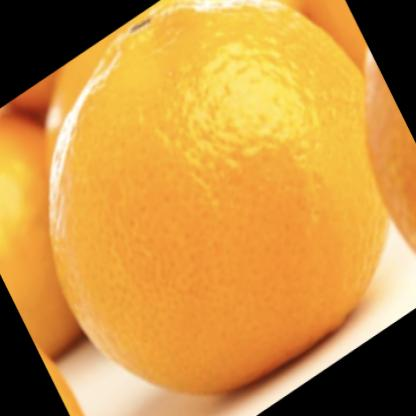fresh: (51, 1, 390, 394)
